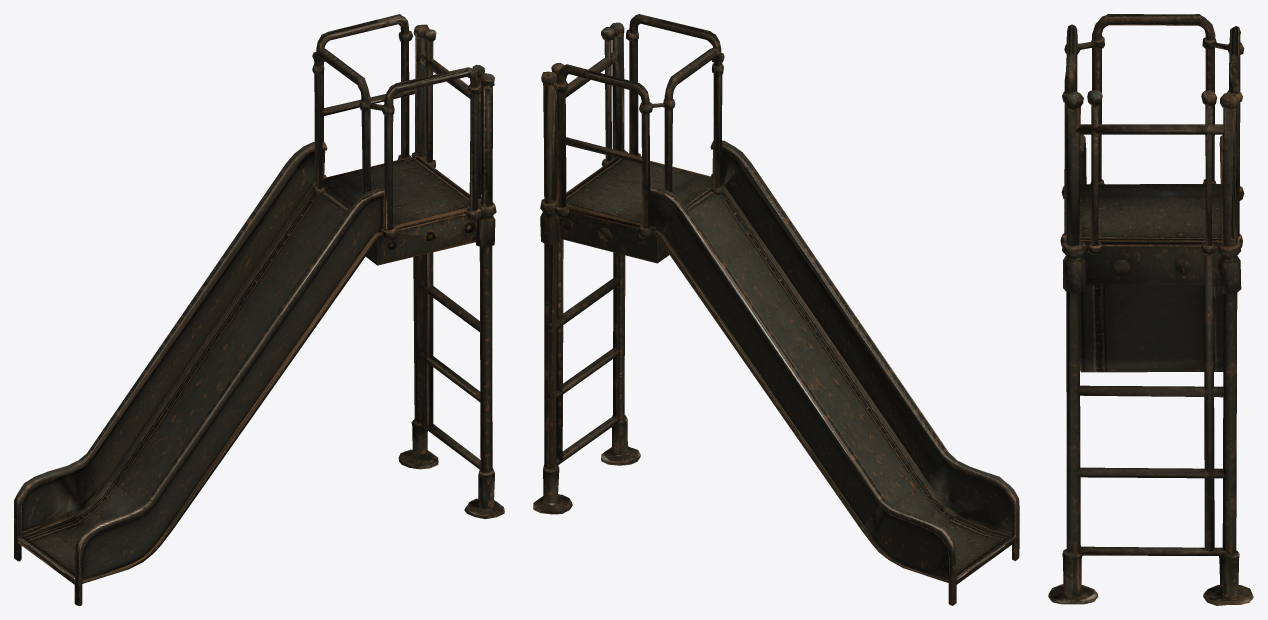
The model's file is metal_slide.fbx.
The picture shows the model from 3 angles, left to right: view 1: azimuth 30°, elevation 25°; view 2: azimuth 150°, elevation 25°; view 3: azimuth 270°, elevation 25°; orthographic projection. The views are drawn at different scales.
Visible parts, largest first — view 1: metal_slide; view 2: metal_slide; view 3: metal_slide.
Part boxes in pixels (x1,y1,x2,y2): metal_slide: (14,14,504,605); metal_slide: (533,14,1019,605); metal_slide: (1048,14,1253,605).
Size of the model in its own units: 1026 by 1052 by 375.
1 material, 1 textured.
